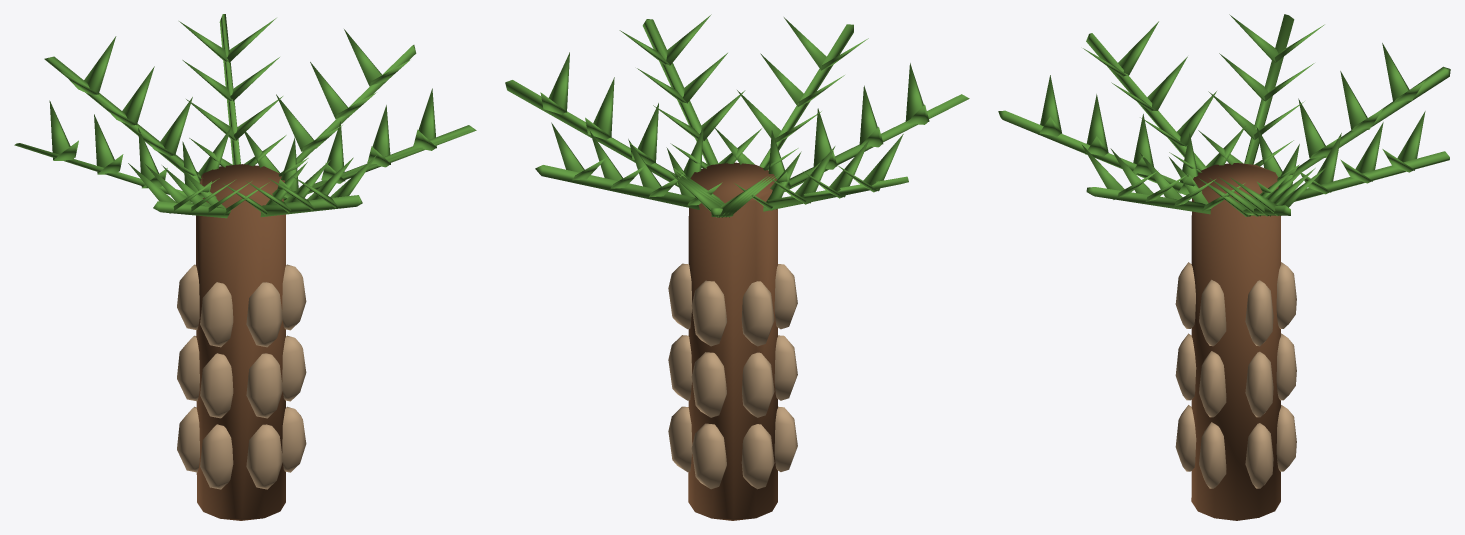
File: org_cycad.glb
3 renders of one model, left to right at view 1: azimuth 30°, elevation 25°; view 2: azimuth 150°, elevation 25°; view 3: azimuth 270°, elevation 25°, orthographic.
Parts seen in each view (by area): view 1: Trunk, Foliage; view 2: Trunk, Foliage; view 3: Trunk, Foliage.
Boxes of the visible parts, left/top/right/bottom form: Trunk: left=177, top=164, right=306, bottom=520; Foliage: left=14, top=14, right=476, bottom=218; Trunk: left=668, top=162, right=797, bottom=520; Foliage: left=505, top=14, right=969, bottom=217; Trunk: left=1175, top=163, right=1296, bottom=520; Foliage: left=998, top=14, right=1450, bottom=216.
Size of the model in its own units: 1.03 by 1 by 1.
